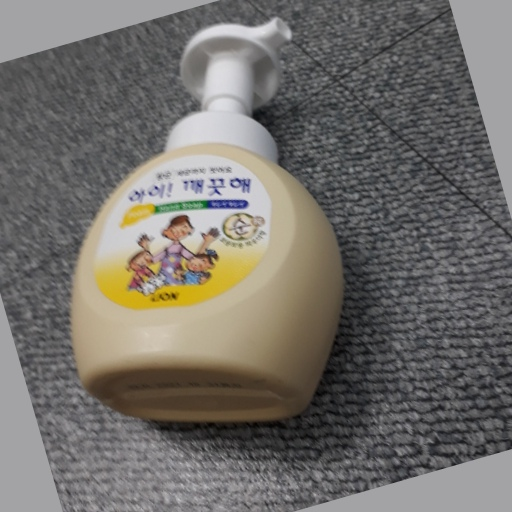Plastic_3: (64, 16, 349, 426)
